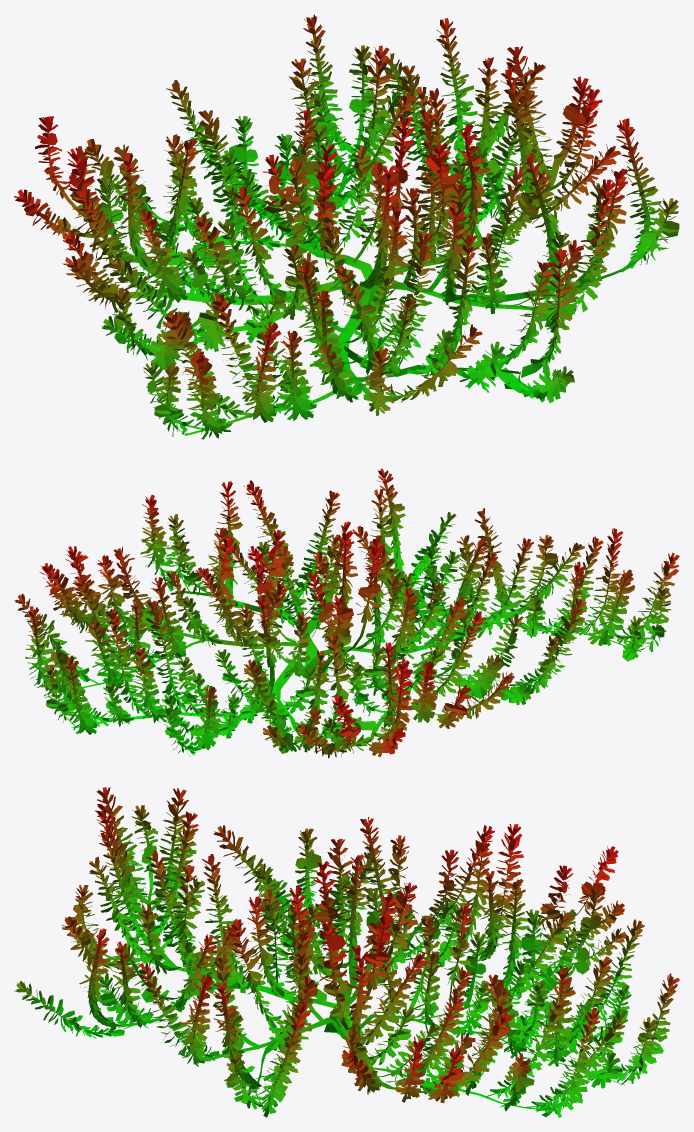
File: Var7_LOD2.fbx
3 views of the same model, one above another, from view 1: azimuth 30°, elevation 25°; view 2: azimuth 150°, elevation 25°; view 3: azimuth 270°, elevation 25° (orthographic). The views are drawn at different scales.
Visible parts, largest first — view 1: _jkwi_Var7_LOD2; view 2: _jkwi_Var7_LOD2; view 3: _jkwi_Var7_LOD2.
Part boxes in pixels (x1,y1,x2,y2): _jkwi_Var7_LOD2: (14,14,679,439); _jkwi_Var7_LOD2: (14,468,679,758); _jkwi_Var7_LOD2: (14,787,679,1117).
Bounding box in the file's own units: 79.12 × 21.12 × 83.99.
